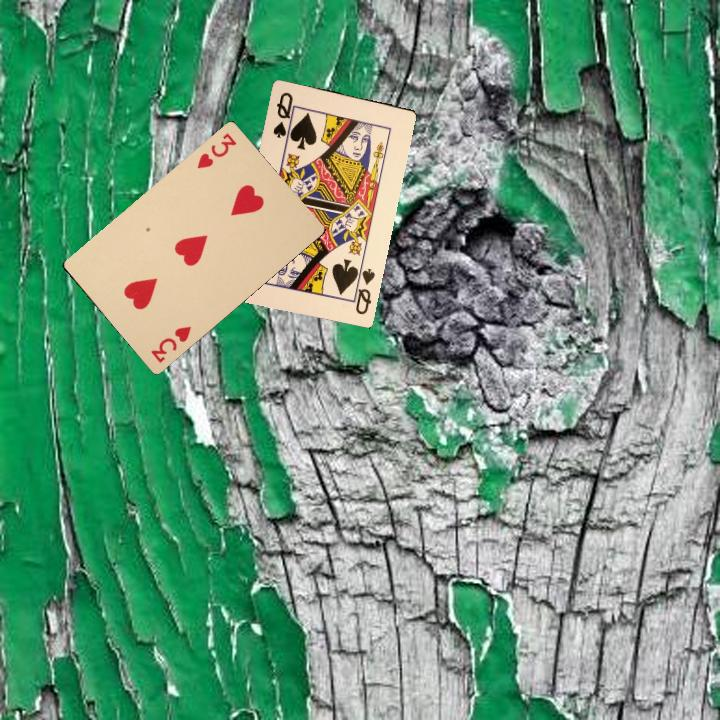3h: (147, 322, 194, 366), (193, 129, 239, 171)
Qs: (347, 263, 378, 317), (269, 88, 298, 144)
